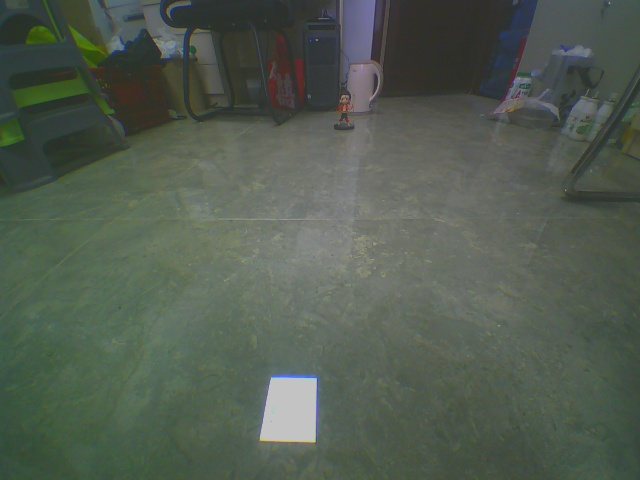Nezha: (333, 87, 362, 134)
